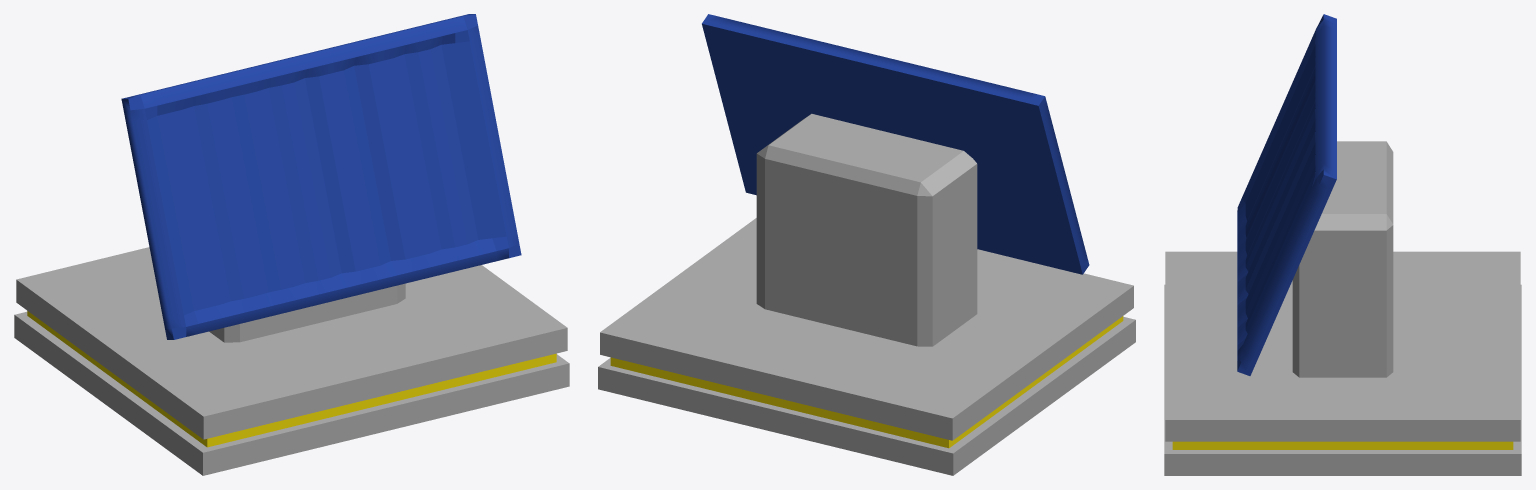
The model's file is energyPanel.fbx.
The picture shows the model from 3 angles, left to right: view 1: azimuth 30°, elevation 25°; view 2: azimuth 150°, elevation 25°; view 3: azimuth 270°, elevation 25°; orthographic projection. The views are drawn at different scales.
Parts seen in each view (by area): view 1: Cube.004; view 2: Cube.004; view 3: Cube.004.
Boxes of the visible parts, left/top/right/bottom form: Cube.004: left=14, top=14, right=569, bottom=475; Cube.004: left=598, top=14, right=1135, bottom=475; Cube.004: left=1164, top=14, right=1521, bottom=475.
Size of the model in its own units: 997 by 814 by 889.
